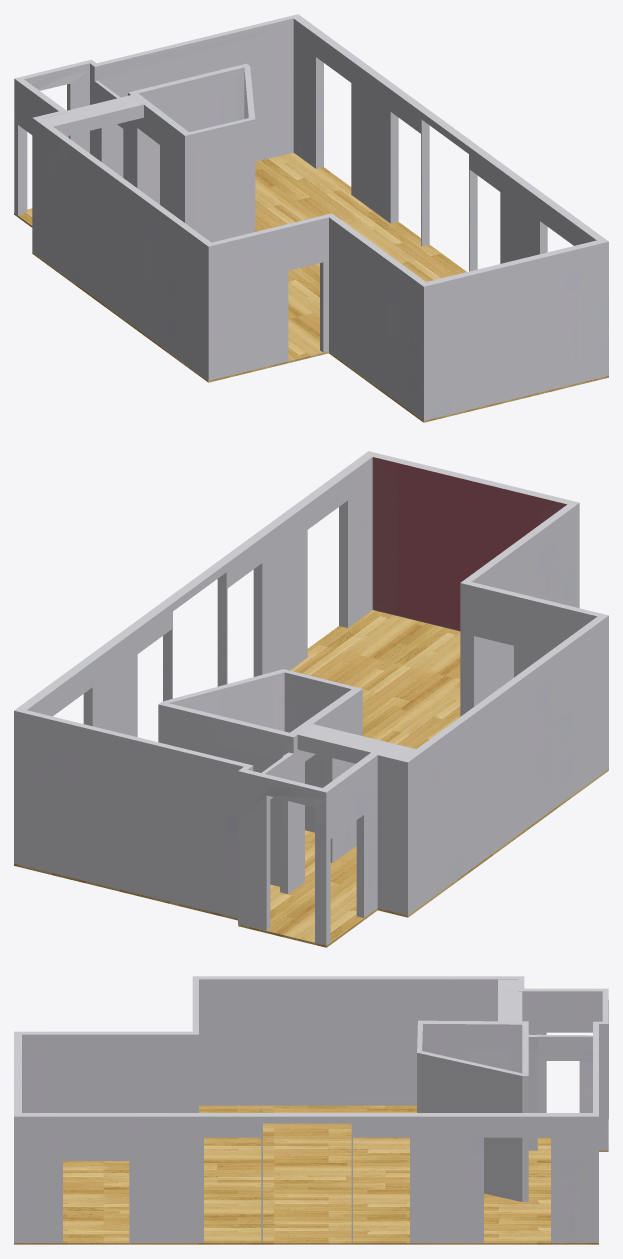
File: frl_apartment_stage_simple.glb
The picture shows the model from 3 angles, top to bottom: view 1: azimuth 30°, elevation 25°; view 2: azimuth 150°, elevation 25°; view 3: azimuth 270°, elevation 25°; orthographic projection. The views are drawn at different scales.
Parts seen in each view (by area): view 1: frl_apartment_wall, frl_apartment_floor; view 2: frl_apartment_wall, frl_apartment_floor; view 3: frl_apartment_wall, frl_apartment_floor.
Part boxes in pixels (x1,y1,x2,y2): frl_apartment_wall: [14, 14, 608, 420]; frl_apartment_floor: [14, 152, 608, 422]; frl_apartment_wall: [14, 451, 608, 945]; frl_apartment_floor: [14, 610, 608, 947]; frl_apartment_wall: [14, 976, 608, 1242]; frl_apartment_floor: [14, 1105, 608, 1244].
Size of the model in its own units: 7.26 by 3.09 by 13.
Materials: 2 (2 with a texture image).
